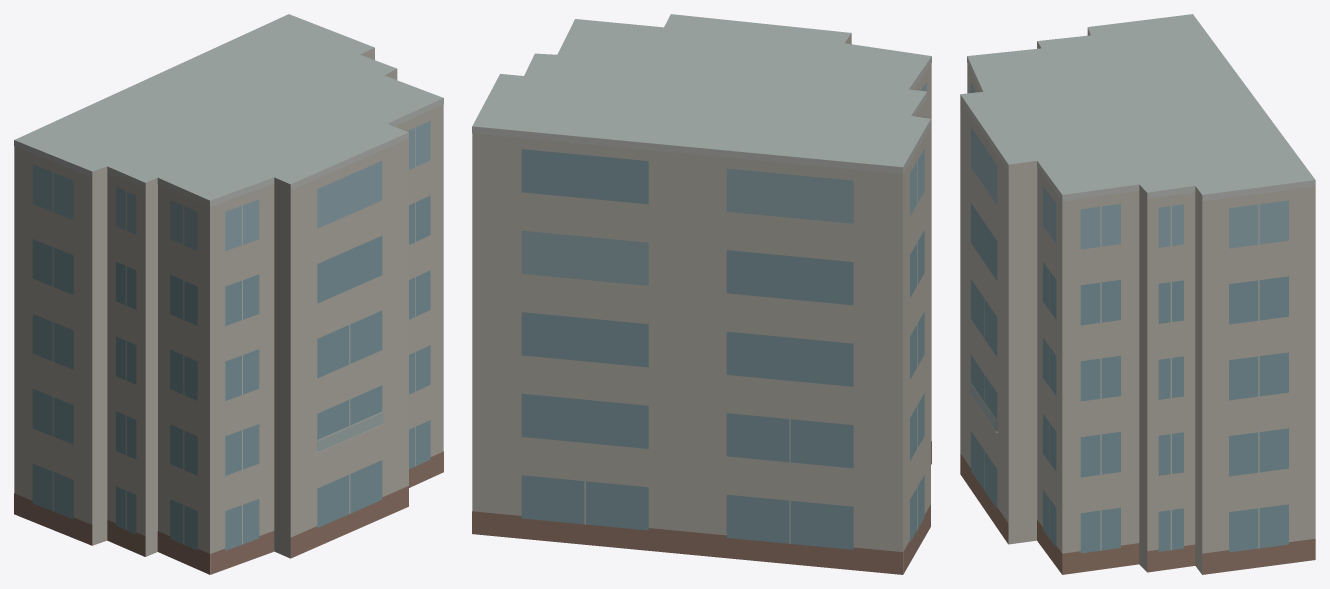
File: survey-upis-32489981.glb
The picture shows the model from 3 angles, left to right: view 1: azimuth 30°, elevation 25°; view 2: azimuth 150°, elevation 25°; view 3: azimuth 270°, elevation 25°; orthographic projection. The views are drawn at different scales.
Parts seen in each view (by area): view 1: survey-upis-32489981.tmp; view 2: survey-upis-32489981.tmp; view 3: survey-upis-32489981.tmp.
Boxes of the visible parts, bbox=[...] form: survey-upis-32489981.tmp: bbox=[14, 14, 443, 574]; survey-upis-32489981.tmp: bbox=[472, 14, 931, 574]; survey-upis-32489981.tmp: bbox=[960, 14, 1315, 574].
Bounding box in the file's own units: 14.88 × 14.55 × 12.34.
